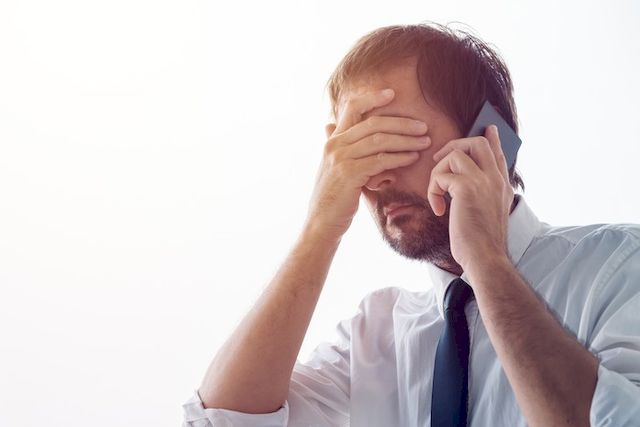phone: (458, 103, 526, 218)
talk: (349, 95, 536, 270)
